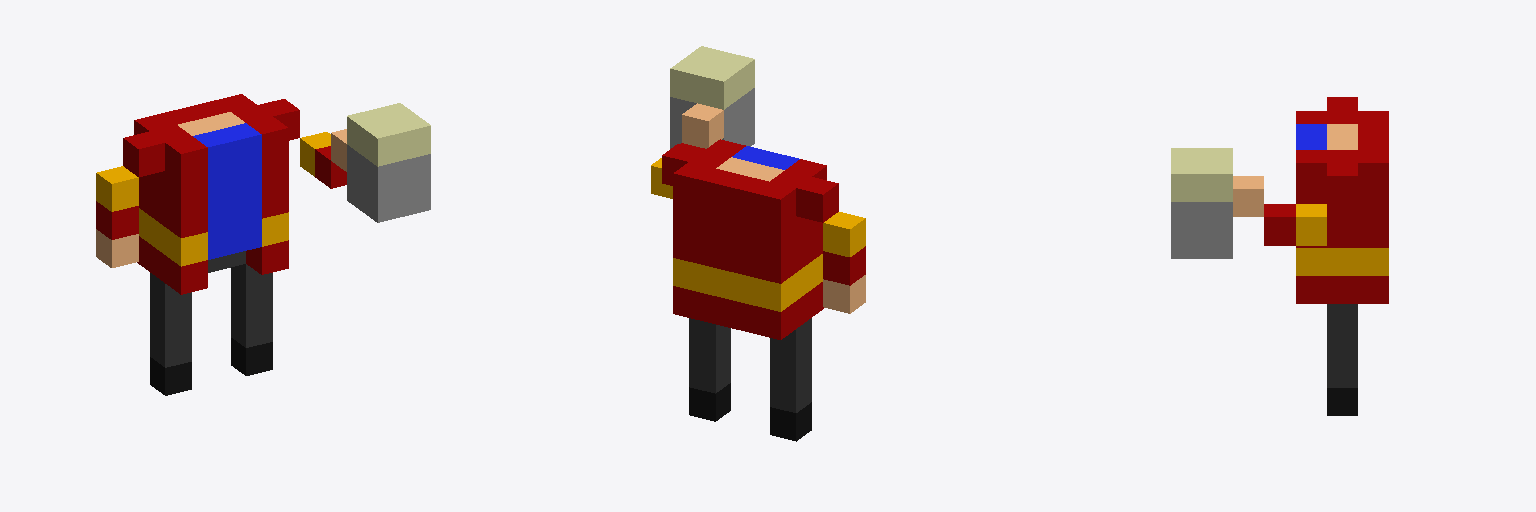
The picture shows the model from 3 angles: view 1: azimuth 30°, elevation 25°; view 2: azimuth 150°, elevation 25°; view 3: azimuth 270°, elevation 25°; orthographic projection.
Size of the model in its own units: 9 by 10 by 7.
1 materials, 1 textured.